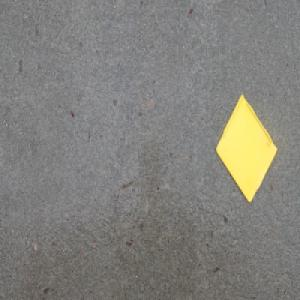PlasticPart: (213, 94, 278, 204)
